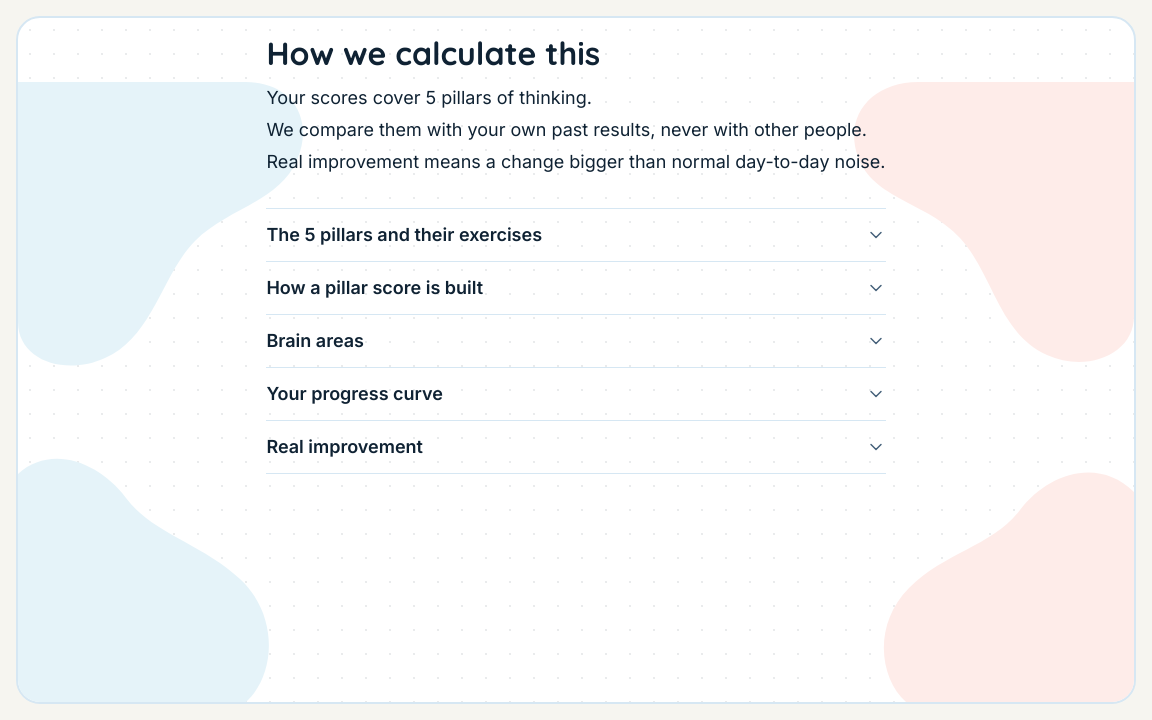
How we calculate this (/methodology) › frames brain areas as research links, with no chemical claims
Click the heading "Brain areas" at (315, 341), box [266, 330, 886, 351]
(page scrolled)
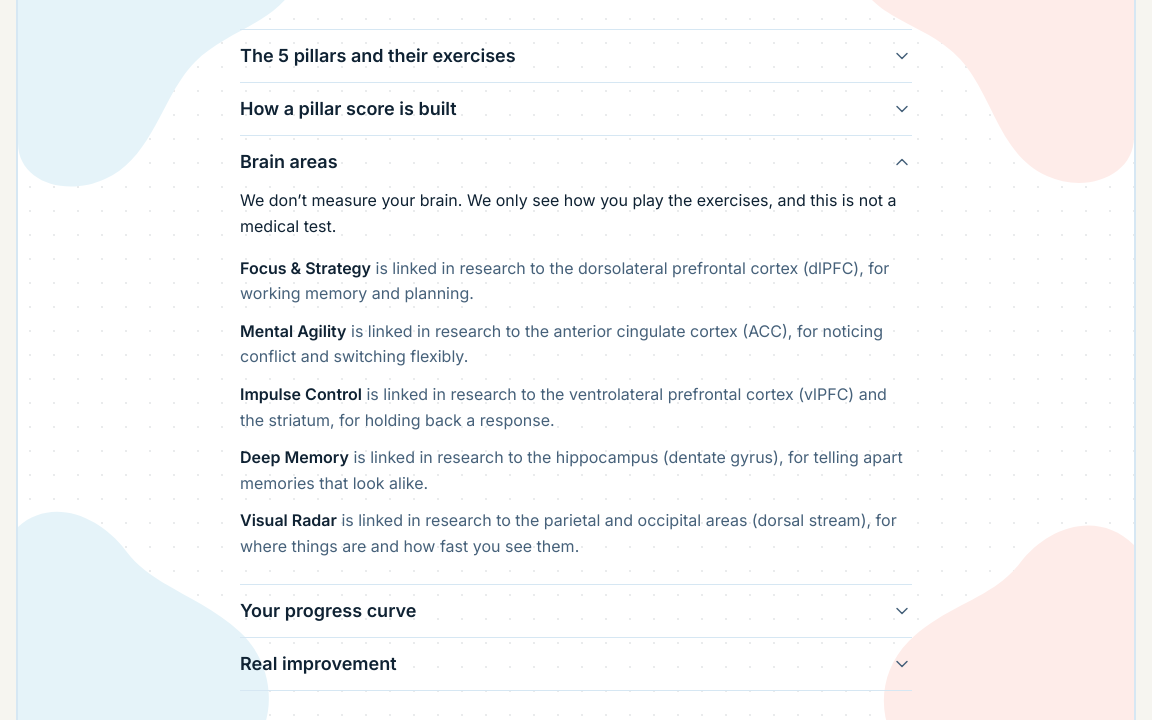
Result: the element "Brain areas" shows "linked in research to" at [376, 258, 549, 278]
Result: the element "Brain areas" shows "We don’t measure your brain" at [240, 190, 896, 236]
Result: the element "Brain areas" shows "hippocampus" at [527, 447, 779, 467]
